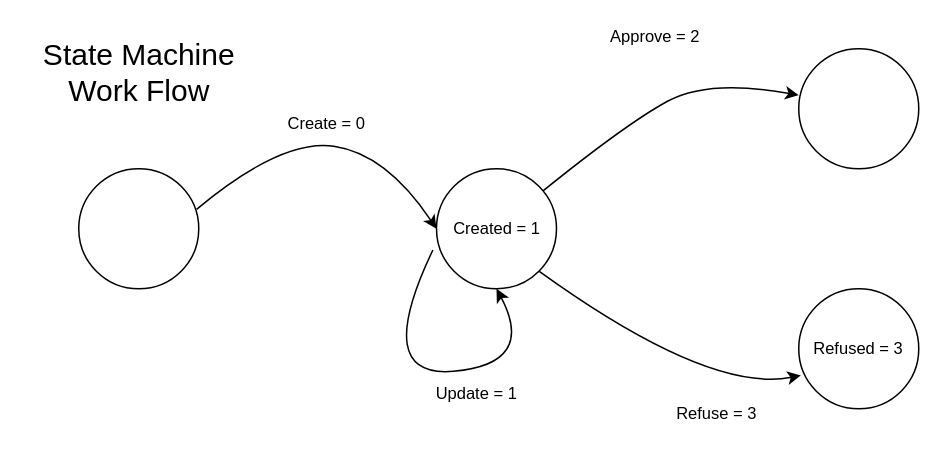
Some shapes in this 945 by 449 pixel diagram are drawn without their labels. The box of each missing label's shape, as (x1, y1, x2, y2) in pixels:
Approved = 2: (797, 47, 919, 169)
Start = 0: (77, 167, 199, 289)
